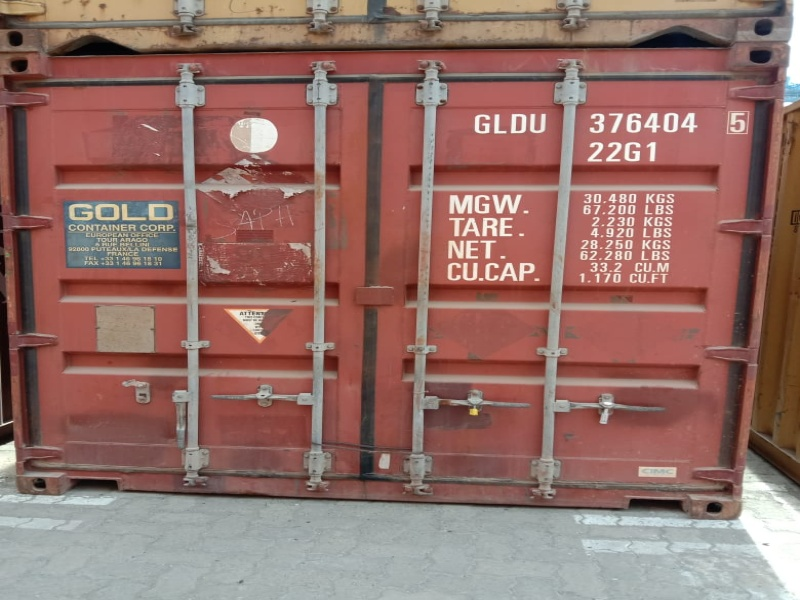iso: (584, 139, 668, 168)
mgw: (445, 187, 680, 217)
serial: (472, 106, 753, 138)
